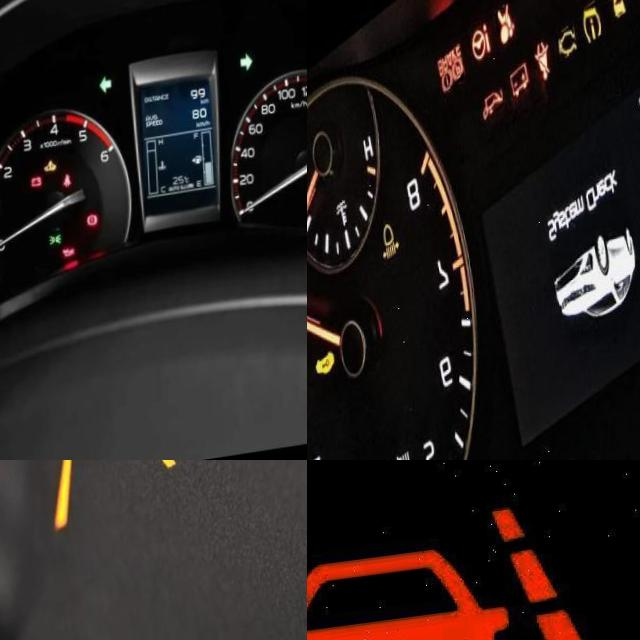Seat Belt: (60, 179, 68, 193)
